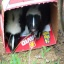skunk: (5, 12, 22, 49), (25, 8, 51, 28)
